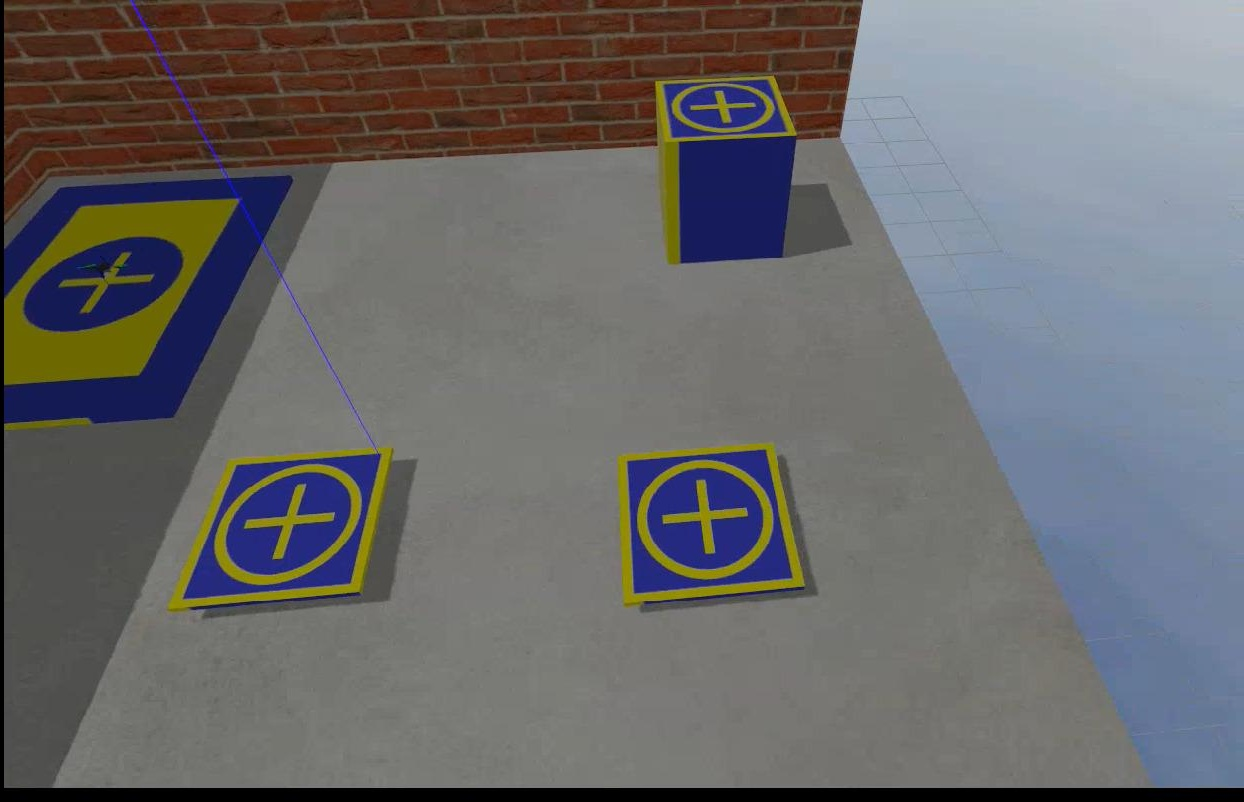large_base: (0, 170, 293, 429)
small_base: (165, 441, 391, 617), (616, 445, 806, 604), (650, 73, 795, 153)
